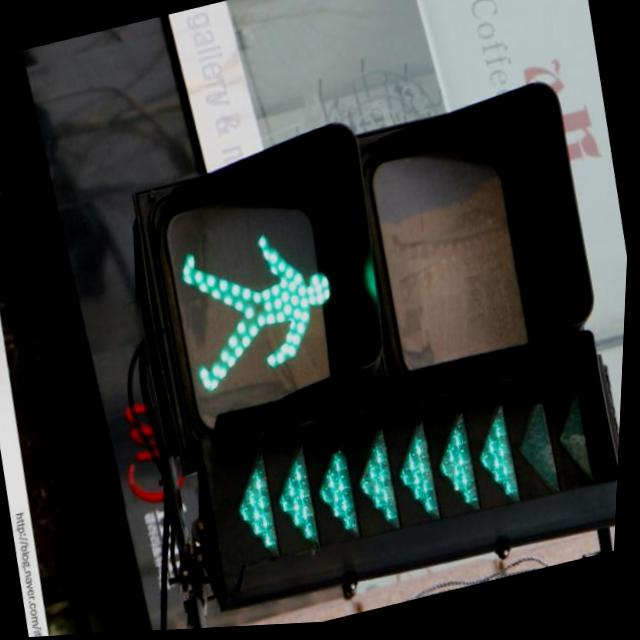green_light: (160, 191, 363, 409)
